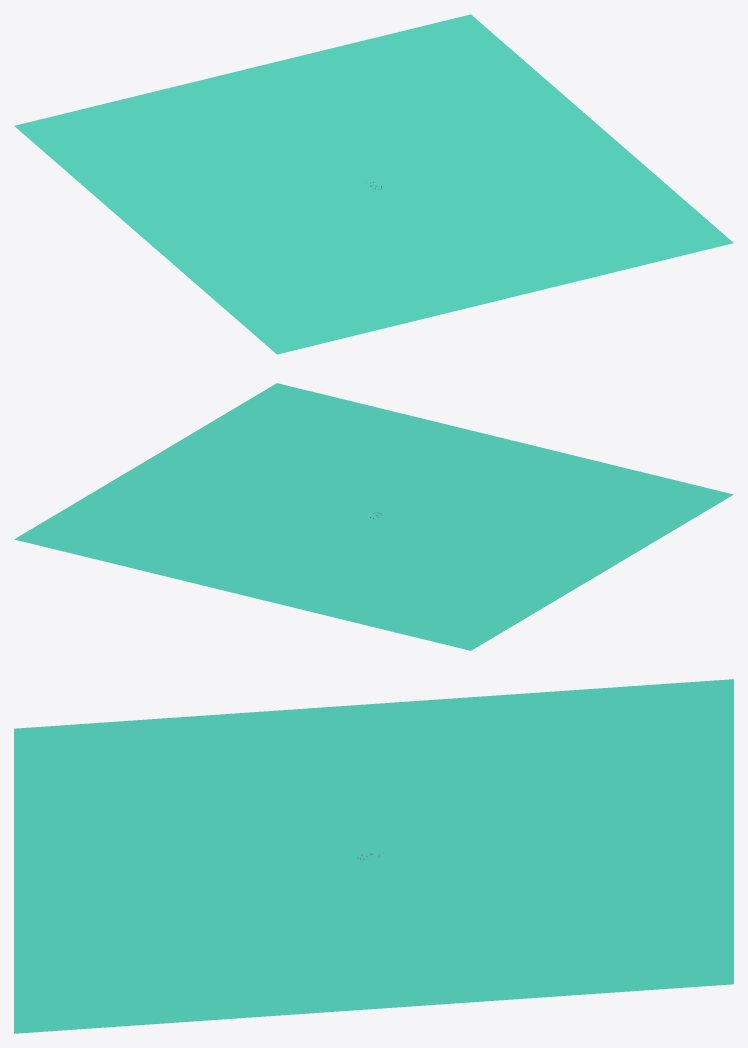
3 renders of one model, top to bottom at view 1: azimuth 30°, elevation 25°; view 2: azimuth 150°, elevation 25°; view 3: azimuth 270°, elevation 25°, orthographic. The views are drawn at different scales.
Parts seen in each view (by area): view 1: Fog; view 2: Fog; view 3: Fog.
Boxes of the visible parts, x1,y1,x2,y2 form: Fog: (14, 14, 733, 354); Fog: (14, 383, 733, 650); Fog: (14, 679, 733, 1033).
Bounding box in the file's own units: 1000 × 75.67 × 997.
